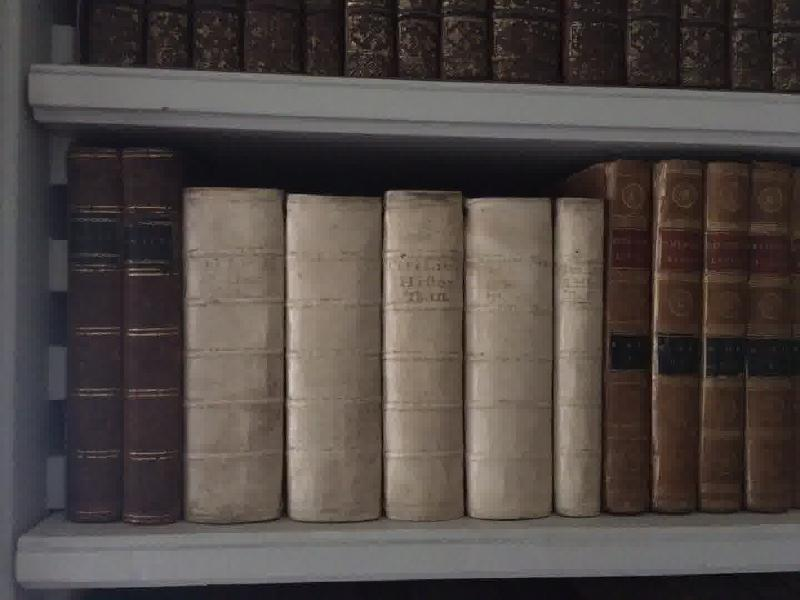Kk4-1_2: (61, 137, 185, 533)
Kk4-3_7: (177, 176, 608, 534)
Kk4-8_13: (599, 159, 800, 526)
